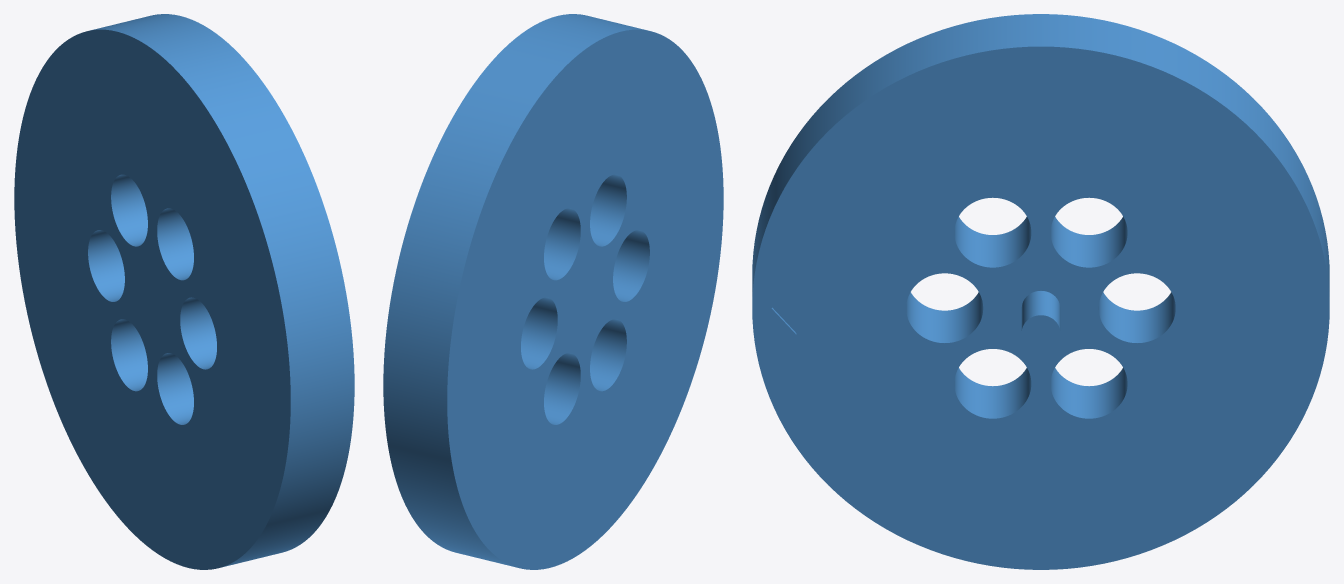
File: Rueda.gltf
3 views of the same model, side by side, from view 1: azimuth 30°, elevation 25°; view 2: azimuth 150°, elevation 25°; view 3: azimuth 270°, elevation 25° (orthographic). The views are drawn at different scales.
Parts seen in each view (by area): view 1: Part 4; view 2: Part 4; view 3: Part 4.
Boxes of the visible parts, left/top/right/bottom form: Part 4: left=14, top=14, right=354, bottom=569; Part 4: left=383, top=14, right=723, bottom=569; Part 4: left=752, top=14, right=1329, bottom=569.
Size of the model in its own units: 0.007 by 0.03 by 0.03.
